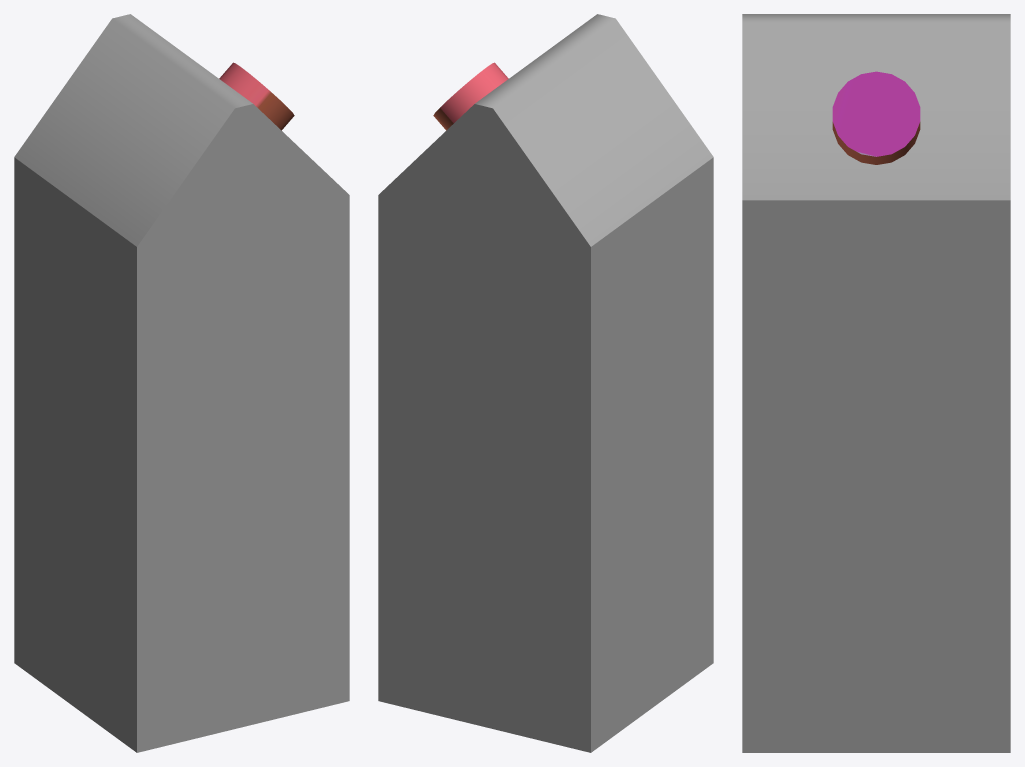
The model's file is Milk.FBX.
The picture shows the model from 3 angles, left to right: view 1: azimuth 30°, elevation 25°; view 2: azimuth 150°, elevation 25°; view 3: azimuth 270°, elevation 25°; orthographic projection. The views are drawn at different scales.
Parts seen in each view (by area): view 1: Milk; view 2: Milk; view 3: Milk.
Part boxes in pixels (<box>): Milk: <box>14,14,349,752</box>; Milk: <box>378,14,713,752</box>; Milk: <box>742,14,1010,752</box>.
Size of the model in its own units: 11 by 30.67 by 11.
